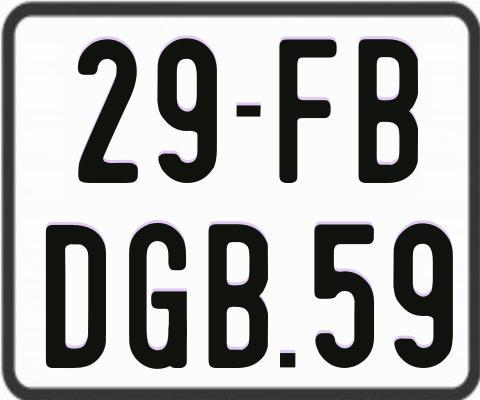2: (76, 38, 140, 187)
5: (311, 224, 375, 372)
9: (154, 35, 218, 183), (390, 220, 453, 369)
B: (206, 223, 271, 373), (358, 37, 417, 187)
D: (43, 222, 107, 368)
F: (276, 39, 337, 185)
G: (127, 222, 186, 369)
